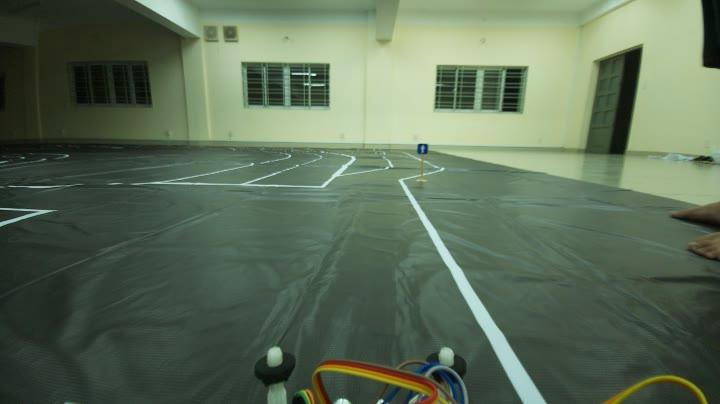onewayroad: (417, 141, 431, 160)
